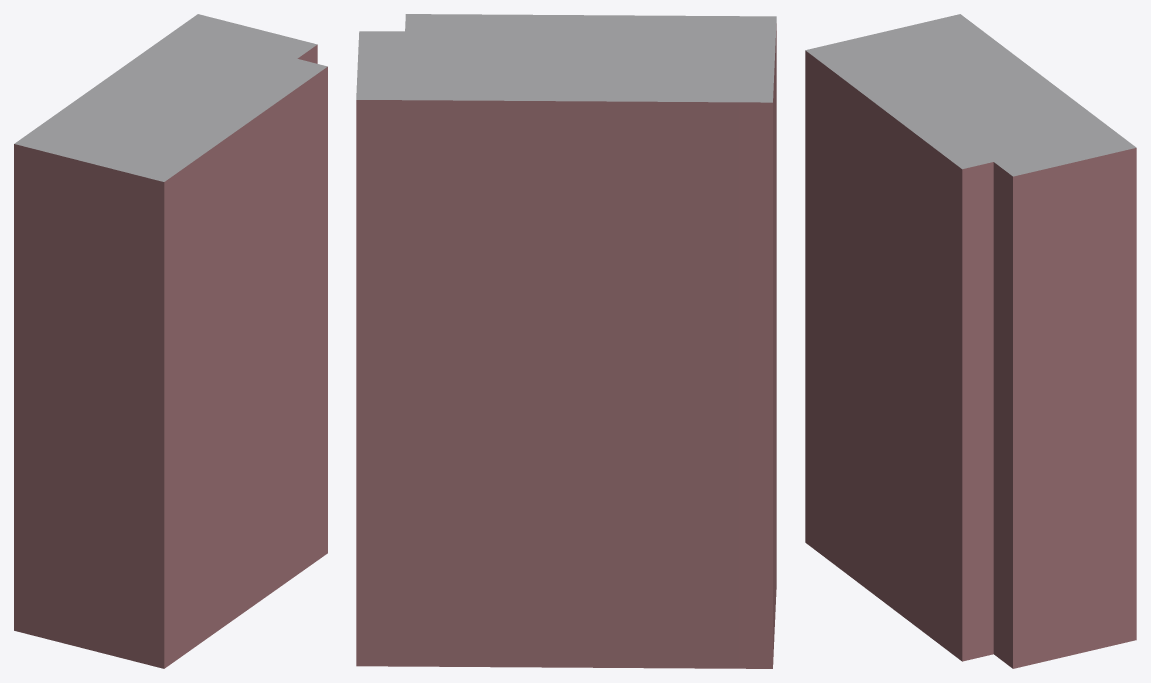
Rendered from nyc-1015264-0.glb.
3 renders of one model, left to right at view 1: azimuth 30°, elevation 25°; view 2: azimuth 150°, elevation 25°; view 3: azimuth 270°, elevation 25°, orthographic. The views are drawn at different scales.
Visible parts, largest first — view 1: nyc-1015264-0; view 2: nyc-1015264-0; view 3: nyc-1015264-0.
Boxes of the visible parts, x1,y1,x2,y2 form: nyc-1015264-0: [14, 14, 327, 668]; nyc-1015264-0: [356, 14, 776, 668]; nyc-1015264-0: [805, 14, 1136, 668].
Size of the model in its own units: 64.37 by 90.86 by 55.44.
